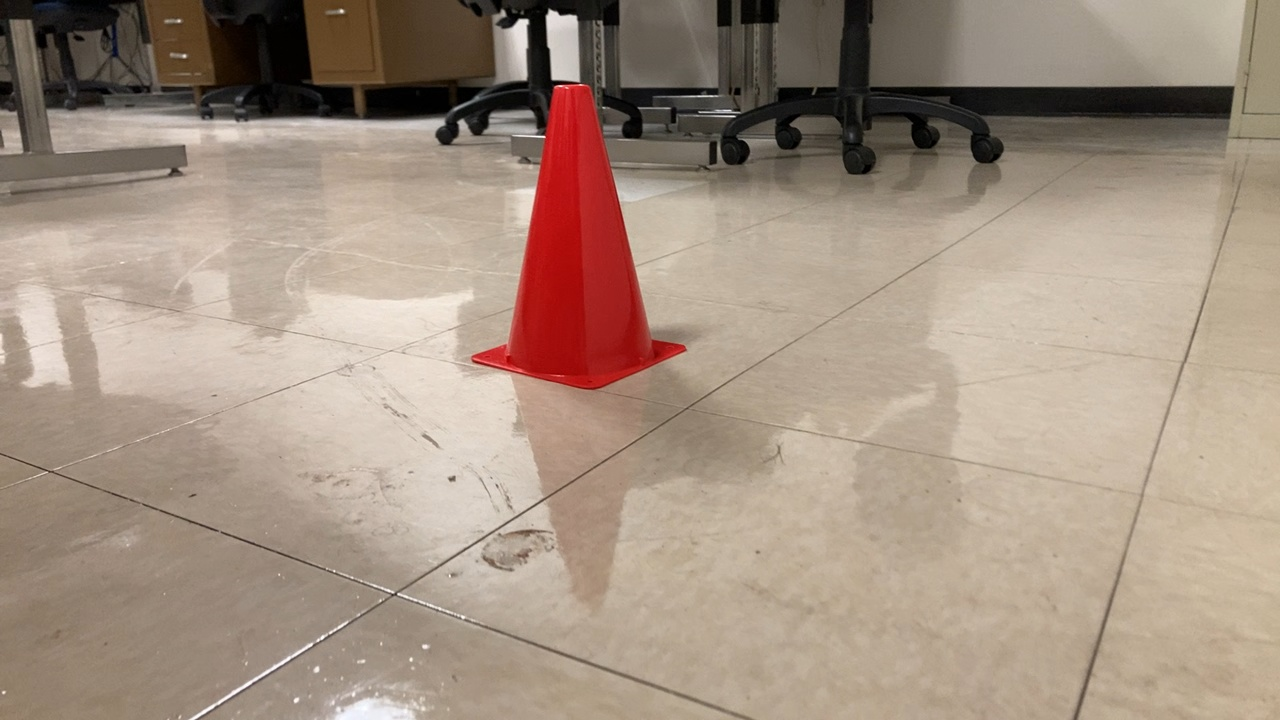red_cone: (455, 82, 696, 394)
